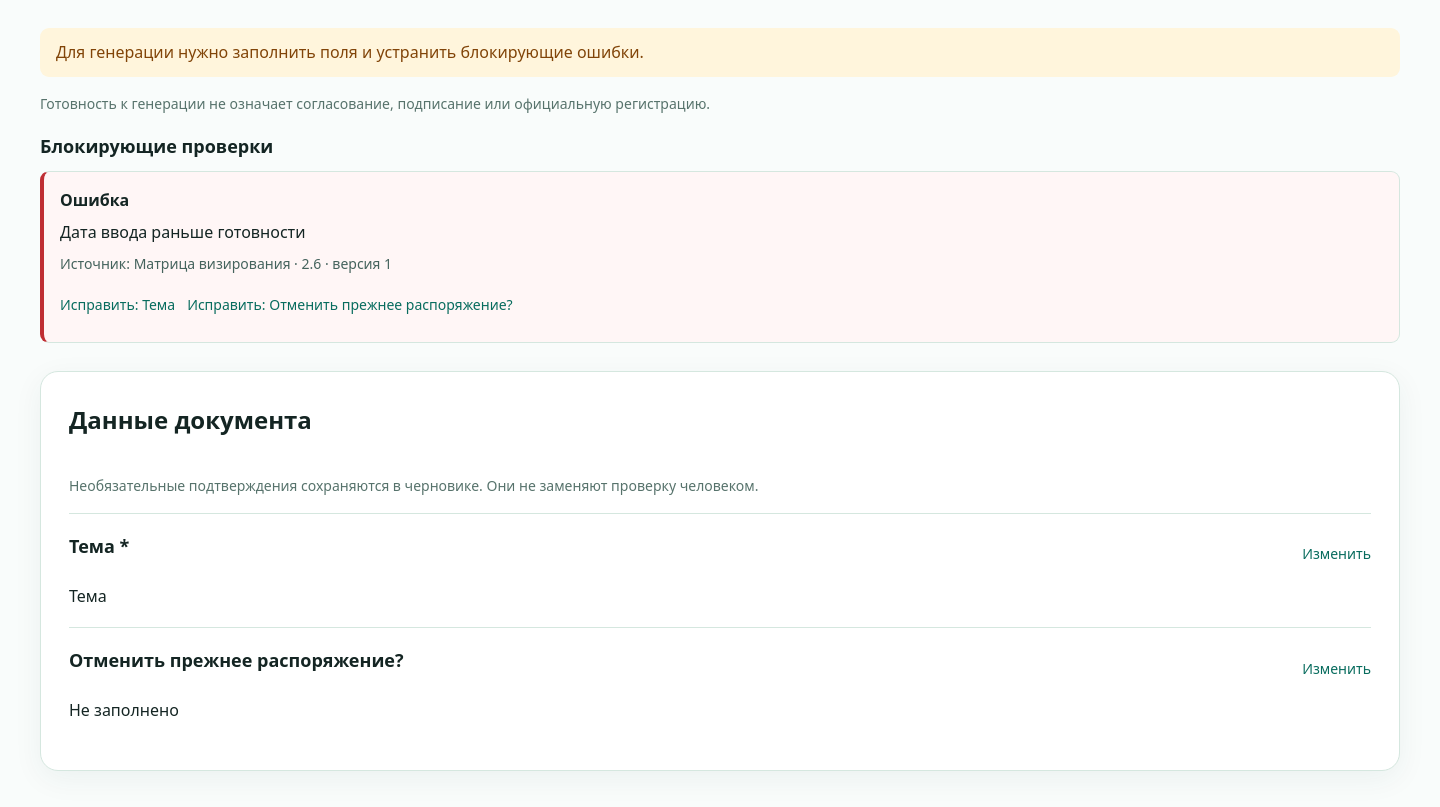
Test: review, generation and report › shows semantic blocking with no next question and a route to edit
(page scrolled)
Click the 1st button "Изменить": coordinates (1337, 554) top-left (1302, 532), bottom-right (1371, 576)
(page scrolled)
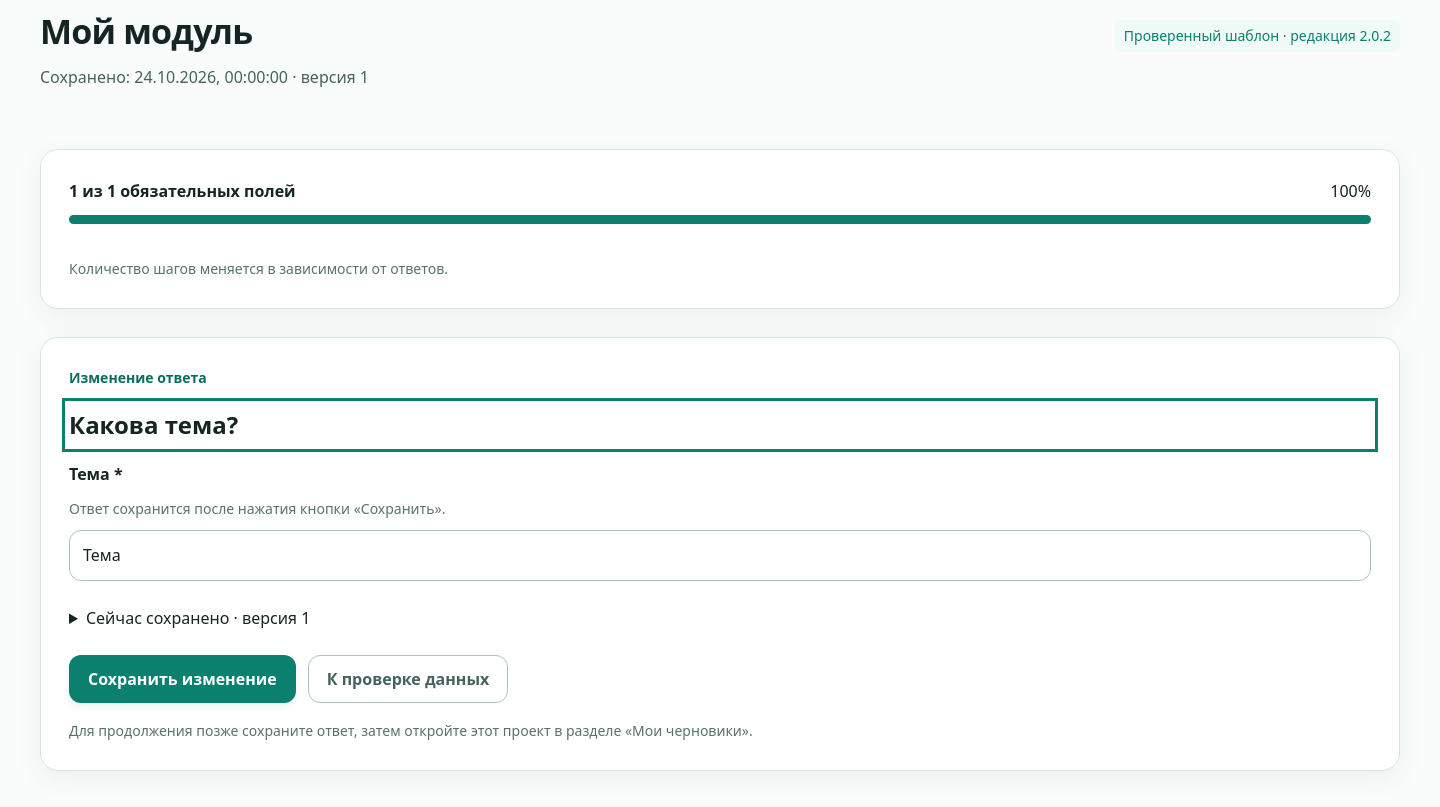
Expected: the form is shown, top-left (40, 337), bottom-right (1400, 771)
